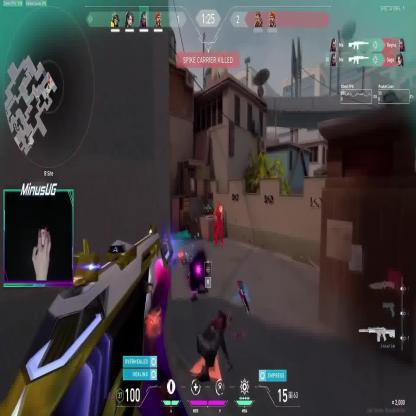enemy: (212, 199, 224, 246)
enemy_head: (216, 200, 220, 206)
